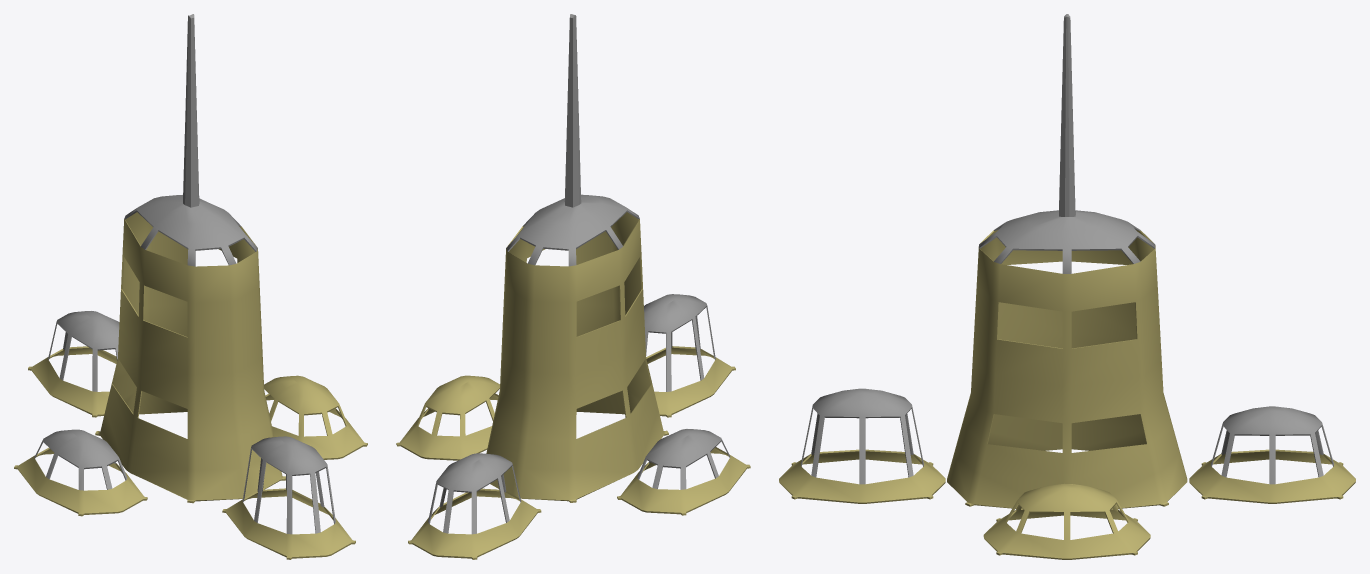
The model's file is baseGrande.FBX.
3 renders of one model, left to right at view 1: azimuth 30°, elevation 25°; view 2: azimuth 150°, elevation 25°; view 3: azimuth 270°, elevation 25°, orthographic. The views are drawn at different scales.
Visible parts, largest first — view 1: Plane002; view 2: Plane002; view 3: Plane002.
Boxes of the visible parts, x1=… form: Plane002: x1=14, y1=14, x2=367, y2=559; Plane002: x1=396, y1=14, x2=750, y2=559; Plane002: x1=779, y1=14, x2=1355, y2=559.
Size of the model in its own units: 546 by 840 by 749.
